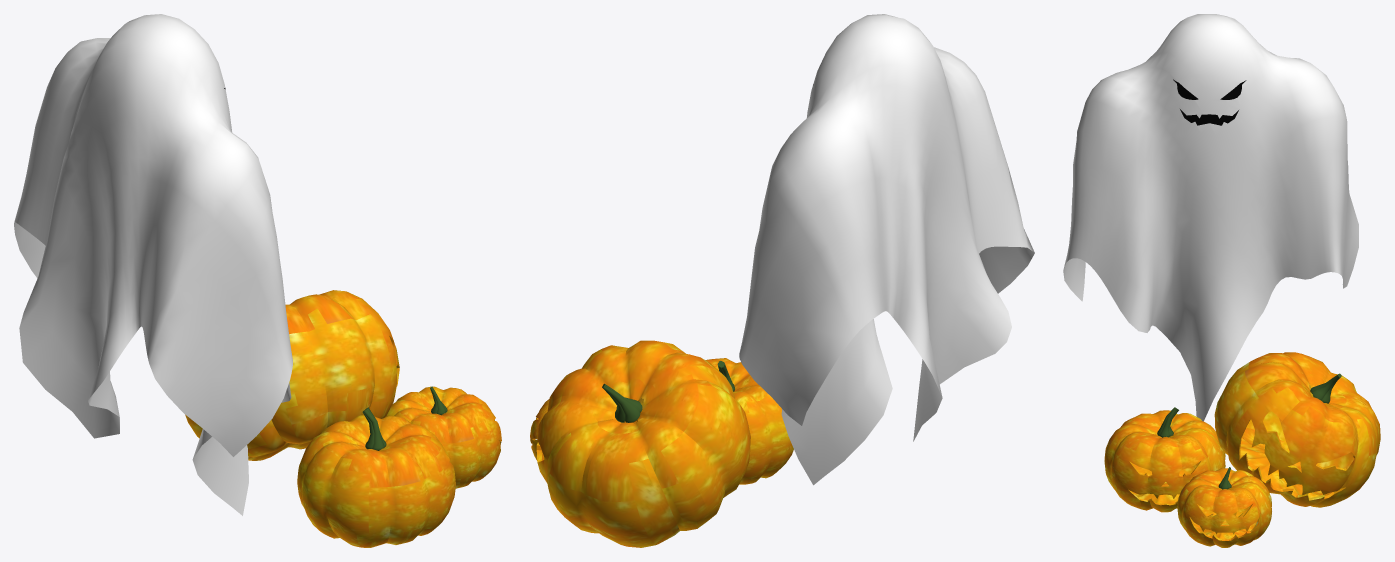
The picture shows the model from 3 angles, left to right: view 1: azimuth 30°, elevation 25°; view 2: azimuth 150°, elevation 25°; view 3: azimuth 270°, elevation 25°; orthographic projection. The views are drawn at different scales.
Parts seen in each view (by area): view 1: Gost, Pumpkin2, Pumpkin3, Pumpkin4; view 2: Gost, Pumpkin3, Pumpkin2; view 3: Gost, Pumpkin3, Pumpkin2, Pumpkin4.
Boxes of the visible parts, x1,y1,x2,y2 form: Gost: (14, 14, 292, 515); Pumpkin2: (297, 407, 455, 547); Pumpkin3: (185, 290, 399, 460); Pumpkin4: (384, 386, 501, 488); Gost: (739, 14, 1034, 485); Pumpkin3: (536, 340, 750, 547); Pumpkin2: (705, 358, 793, 484); Gost: (1063, 14, 1358, 421); Pumpkin3: (1214, 352, 1380, 507); Pumpkin2: (1104, 407, 1225, 512); Pumpkin4: (1177, 467, 1271, 547).
Size of the model in its own units: 18.39 by 20.98 by 14.76.
